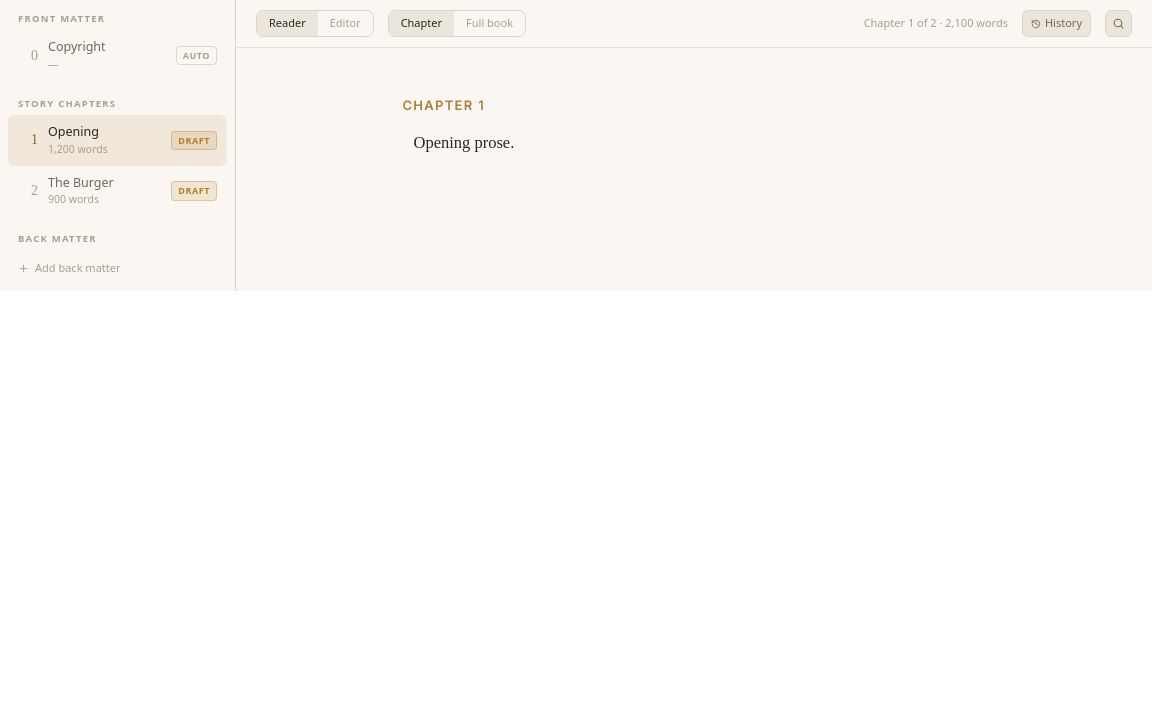
Test: ManuscriptView › opens Find & Replace from the toolbar
This screenshot has width=1152, height=720.
Check: the text "Opening prose." is shown, box [414, 132, 514, 152]
Click the button titled "Find & Replace" at (1118,24), box [1105, 10, 1132, 37]
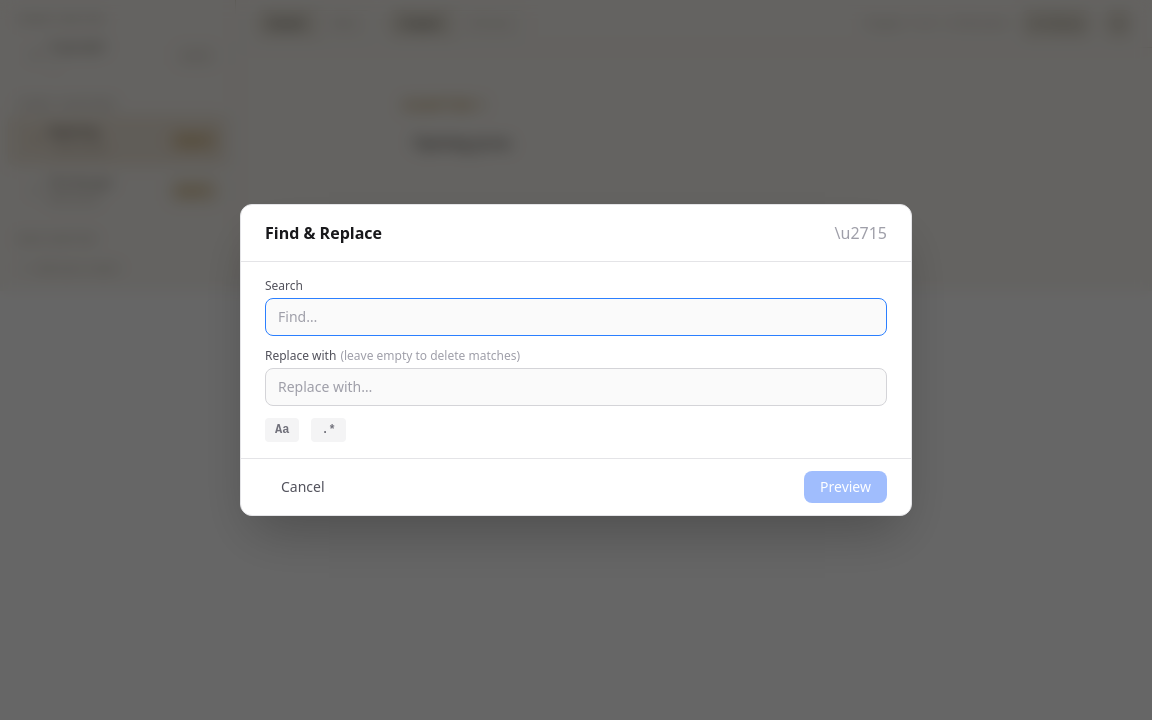
Check: the heading "Find & Replace" is shown, box [265, 221, 382, 245]
Check: the field with placeholder "Find…" is shown, box [265, 298, 887, 336]
